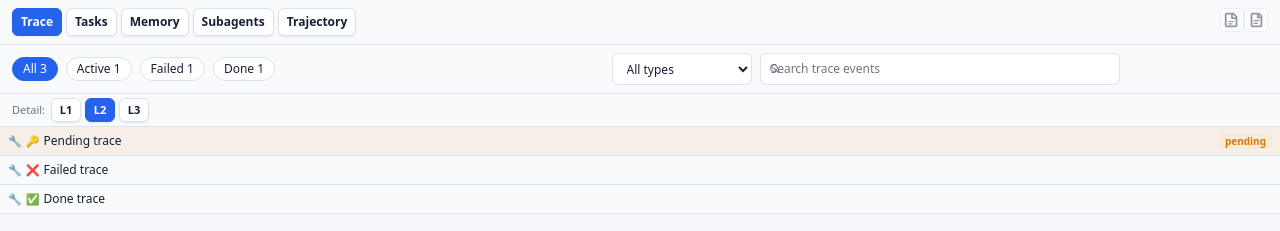
Test: TraceTimeline › filters visible trace entries by failed status
This screenshot has width=1280, height=231.
Click the button with test id "trace-filter-failed" at (172, 69), box x1=140 y1=57 x2=205 y2=81
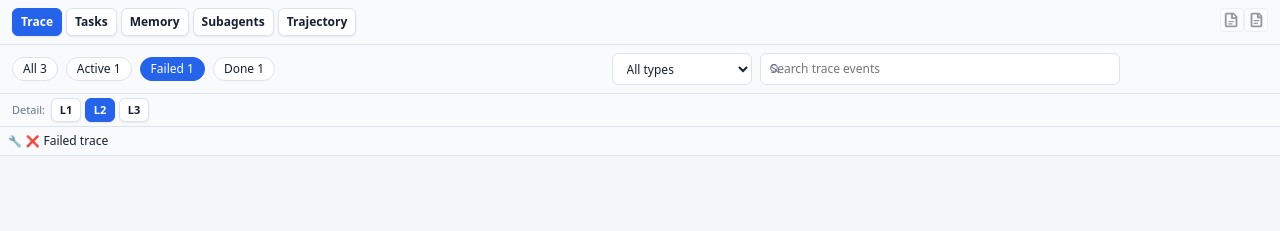
Expected: the text "Failed trace" is shown, x1=43 y1=132 x2=108 y2=149
Now the text "Pending trace" is gone
Now the text "Done trace" is gone
